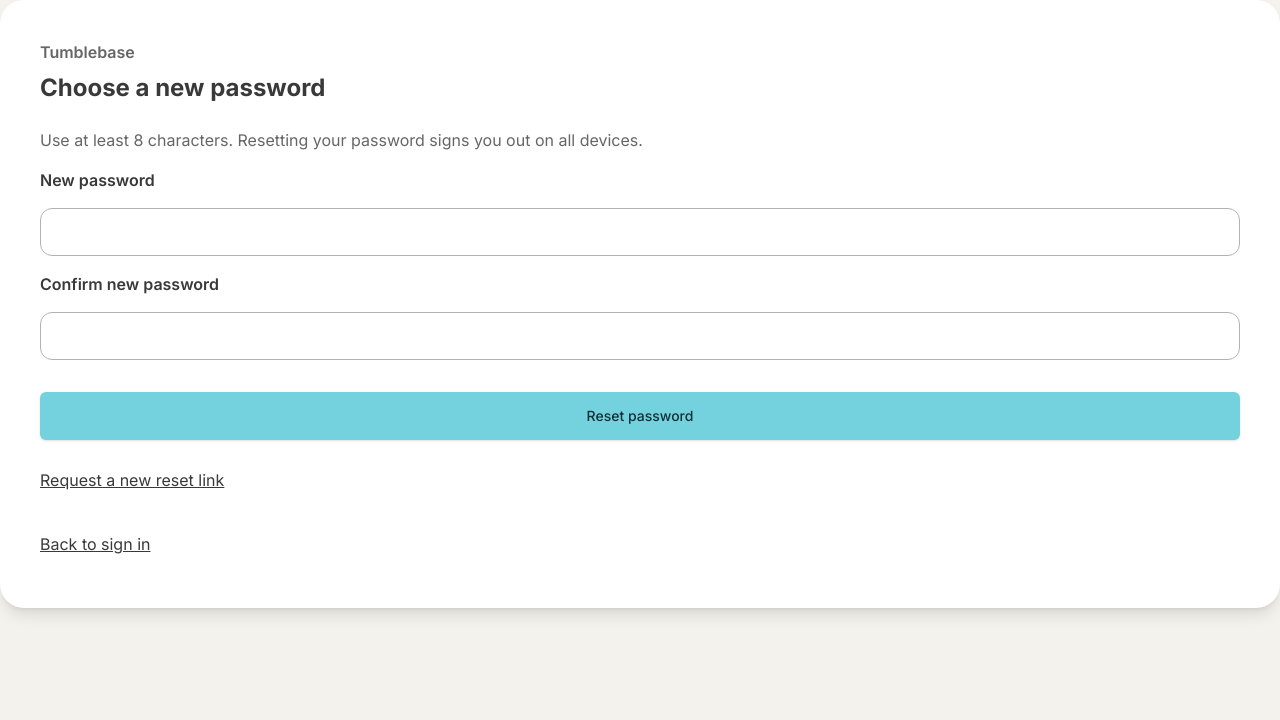
Test: shows an expired-link error without falsely reporting a successful reset
Type "Replacement123" into the password field labelled "New password" at (640, 232), box [40,208,1240,256]
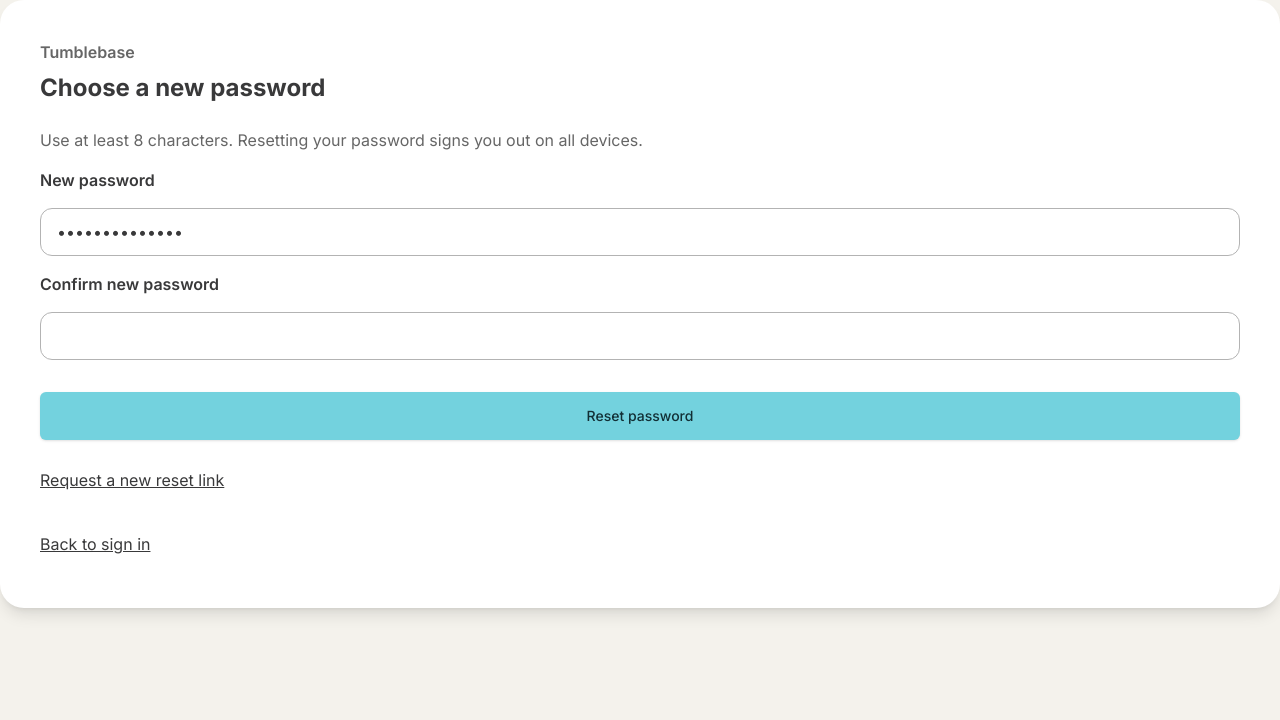
Type "Replacement123" into the password field labelled "Confirm new password" at (640, 336), box [40,312,1240,360]
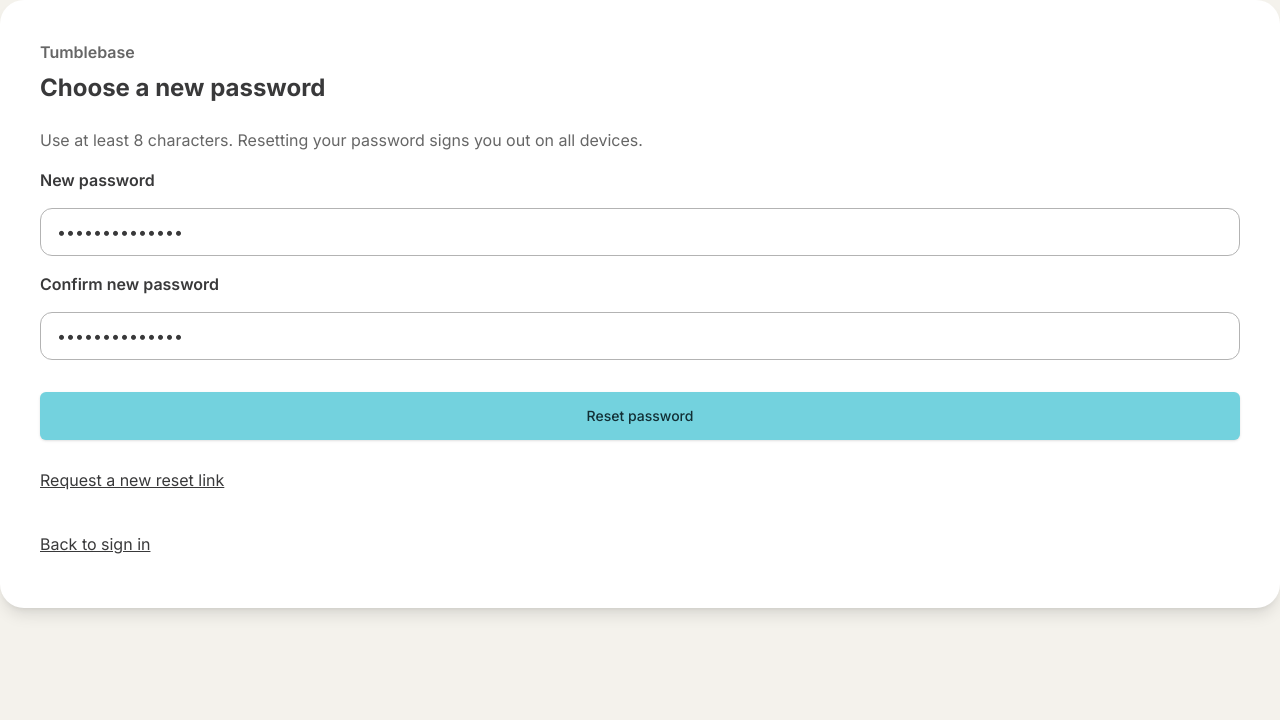
Click the button "Reset password" at (640, 416), box [40,392,1240,440]
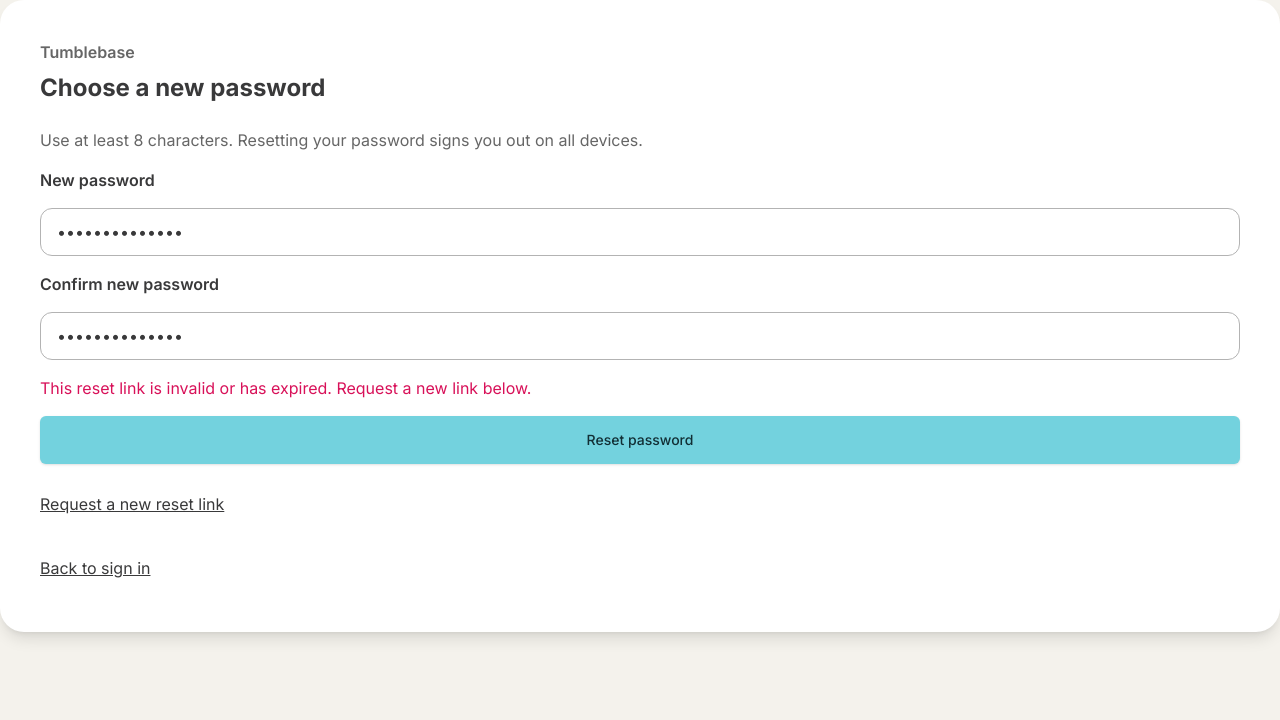
Expected: the message shows "invalid or has expired", [40,378,532,398]
